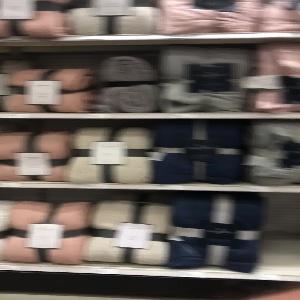void: (263, 195, 300, 277)
